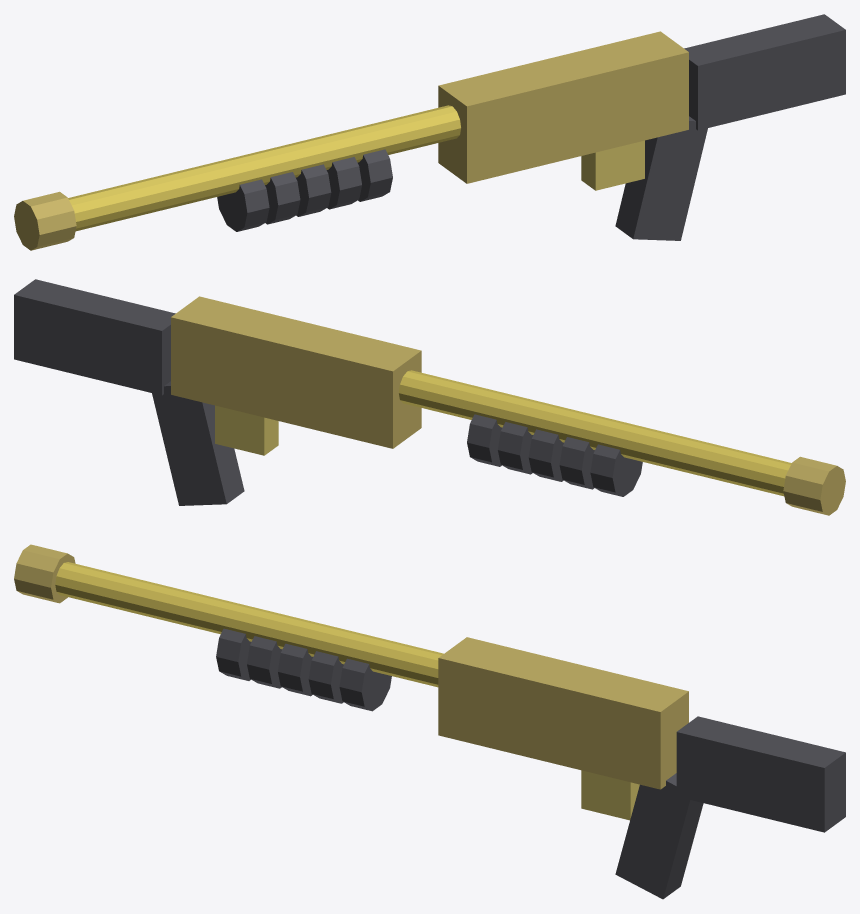
The model's file is gunes_pompali.glb.
3 views of the same model, one above another, from view 1: azimuth 30°, elevation 25°; view 2: azimuth 150°, elevation 25°; view 3: azimuth 330°, elevation 25° (orthographic).
Parts seen in each view (by area): view 1: geometry_0; view 2: geometry_0; view 3: geometry_0.
Part boxes in pixels (box(x1,y1,x2,y2)): geometry_0: box(14, 14, 845, 250); geometry_0: box(14, 279, 845, 515); geometry_0: box(14, 544, 845, 899).
Size of the model in its own units: 0.655 by 0.1486 by 0.044.
